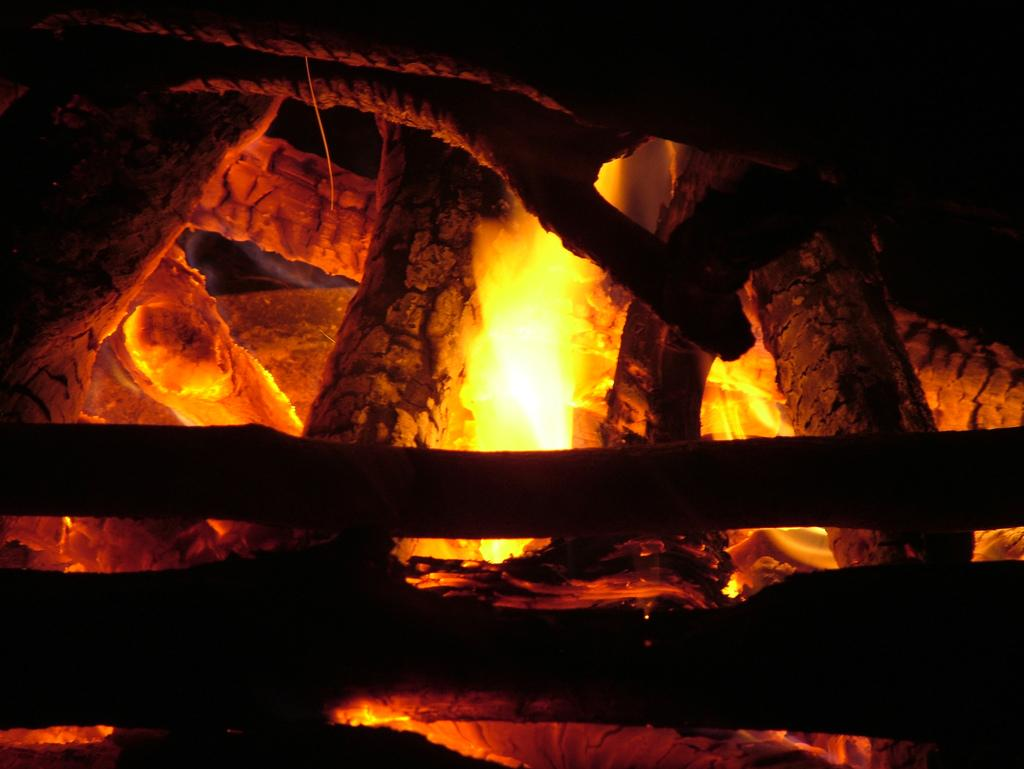fire: (482, 228, 576, 452)
